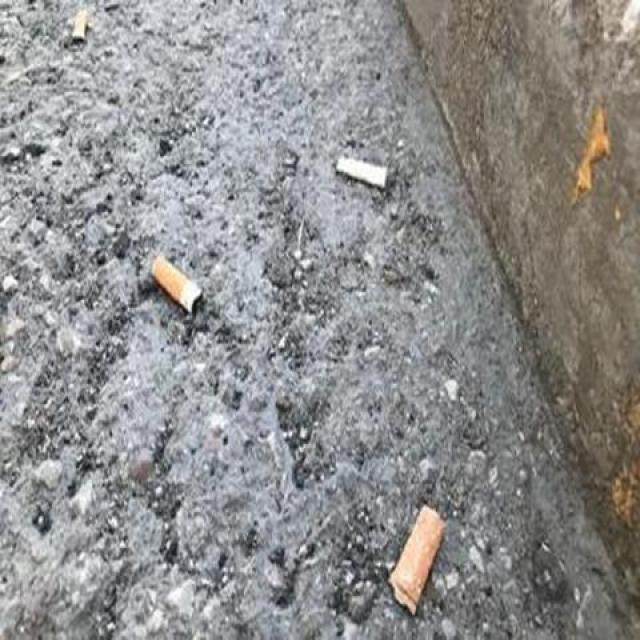non-organic waste: (374, 492, 450, 621), (146, 248, 218, 325), (334, 152, 394, 196), (67, 1, 93, 48)
